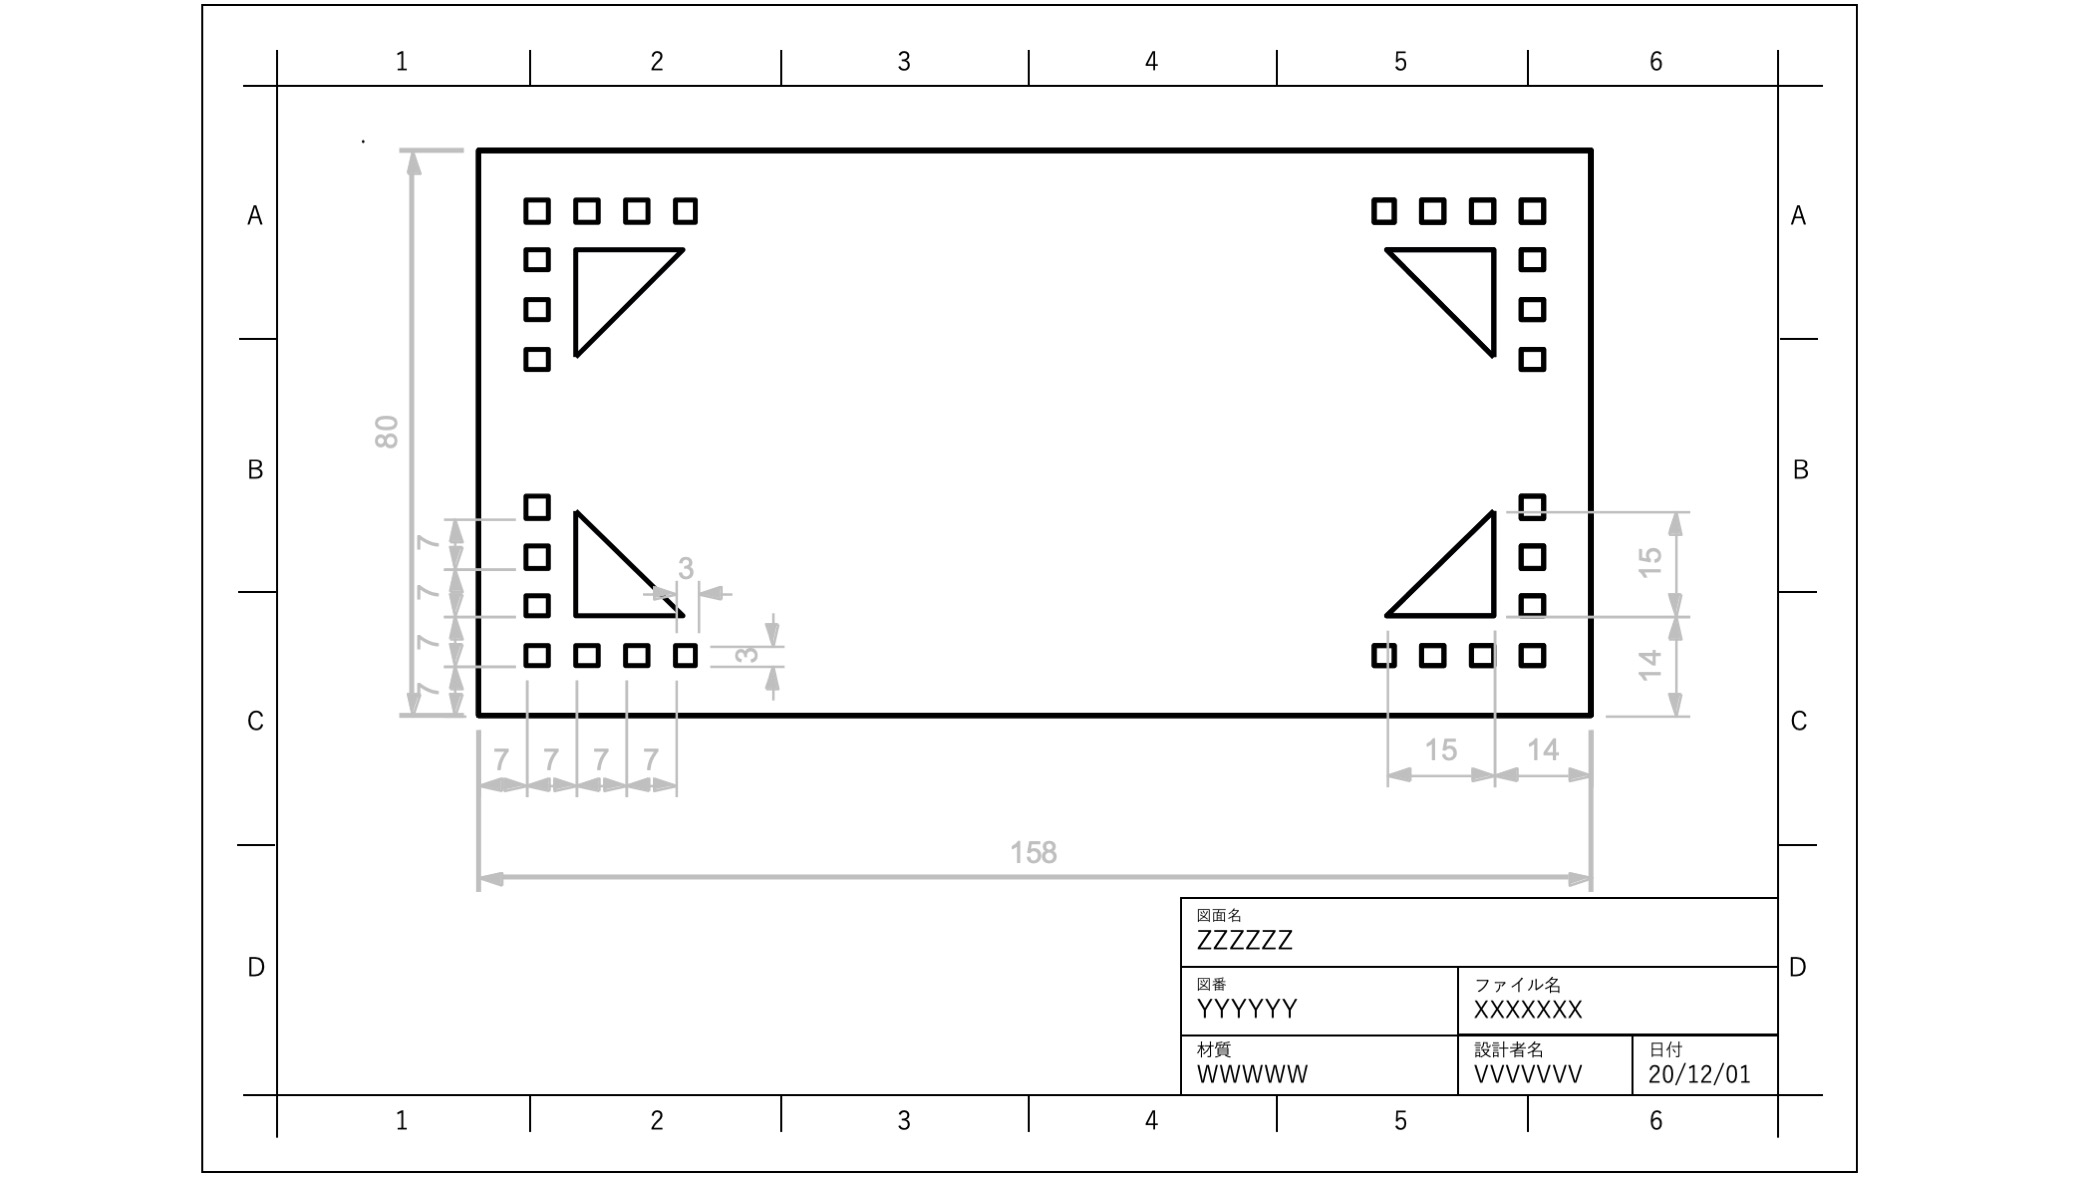rectangle: (515, 632, 560, 675), (513, 187, 562, 226), (516, 477, 555, 523), (663, 190, 710, 228), (513, 539, 562, 574), (1363, 185, 1402, 228), (1513, 584, 1556, 622), (1513, 632, 1552, 672), (1514, 337, 1553, 376), (617, 185, 655, 224), (1514, 187, 1550, 228), (1516, 535, 1553, 572), (1413, 190, 1451, 228), (573, 637, 612, 673), (1412, 634, 1451, 671), (1514, 286, 1550, 324), (1514, 486, 1549, 526), (1465, 634, 1501, 671), (521, 343, 555, 381), (617, 637, 655, 672), (1467, 190, 1501, 228), (519, 584, 551, 624), (1367, 637, 1398, 676), (666, 639, 702, 671), (1514, 244, 1552, 274), (570, 190, 601, 221), (516, 248, 552, 274), (521, 288, 551, 319)
triangle: (567, 244, 705, 362), (1382, 236, 1504, 362), (1380, 496, 1501, 623), (570, 508, 685, 627)
